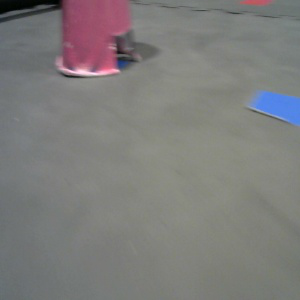middle: (55, 1, 143, 77)
